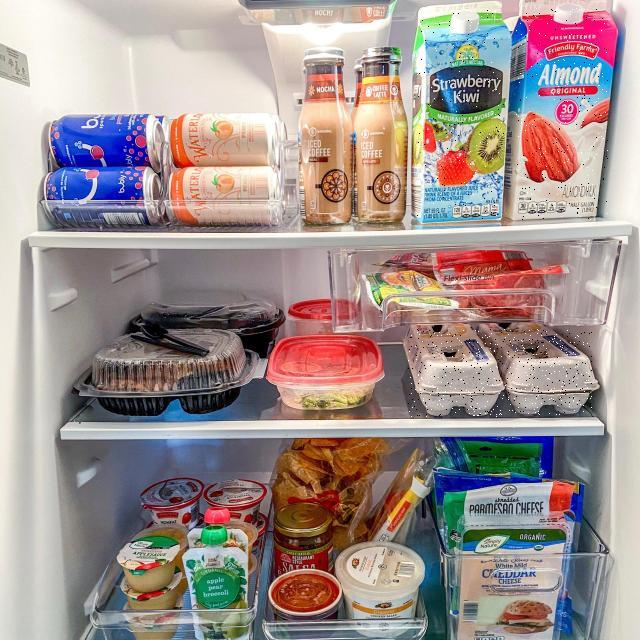eggs: (408, 329, 501, 417), (500, 330, 592, 416)
milk: (516, 8, 608, 220), (416, 10, 504, 219)
